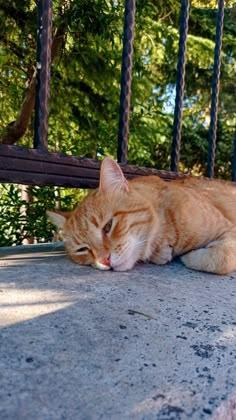kedo: (48, 155, 236, 274)
